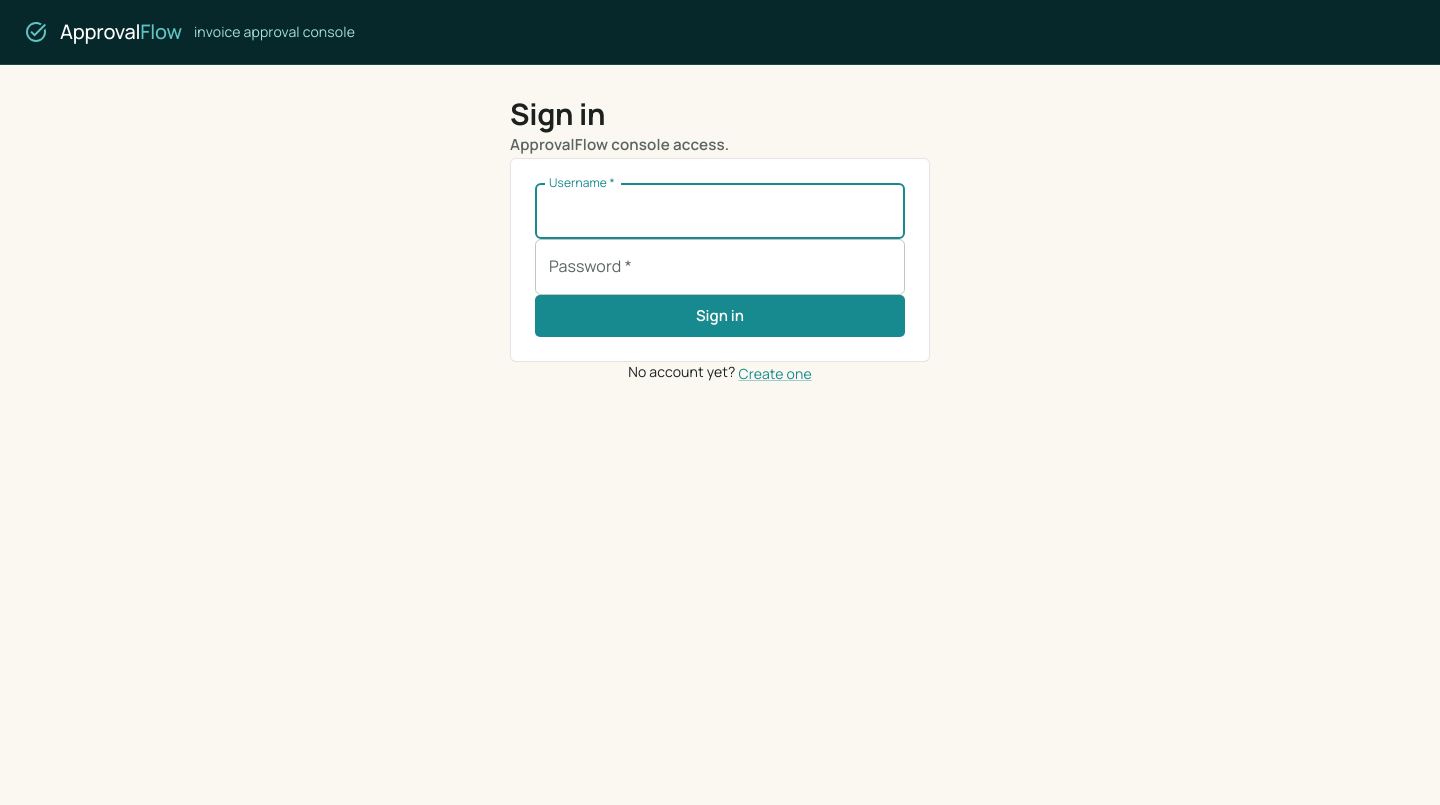
Test: App - unauthenticated › shows the tabbed console after a successful login
Type "alice" into the field labelled "Username *" at (720, 211), box [535,183,905,239]
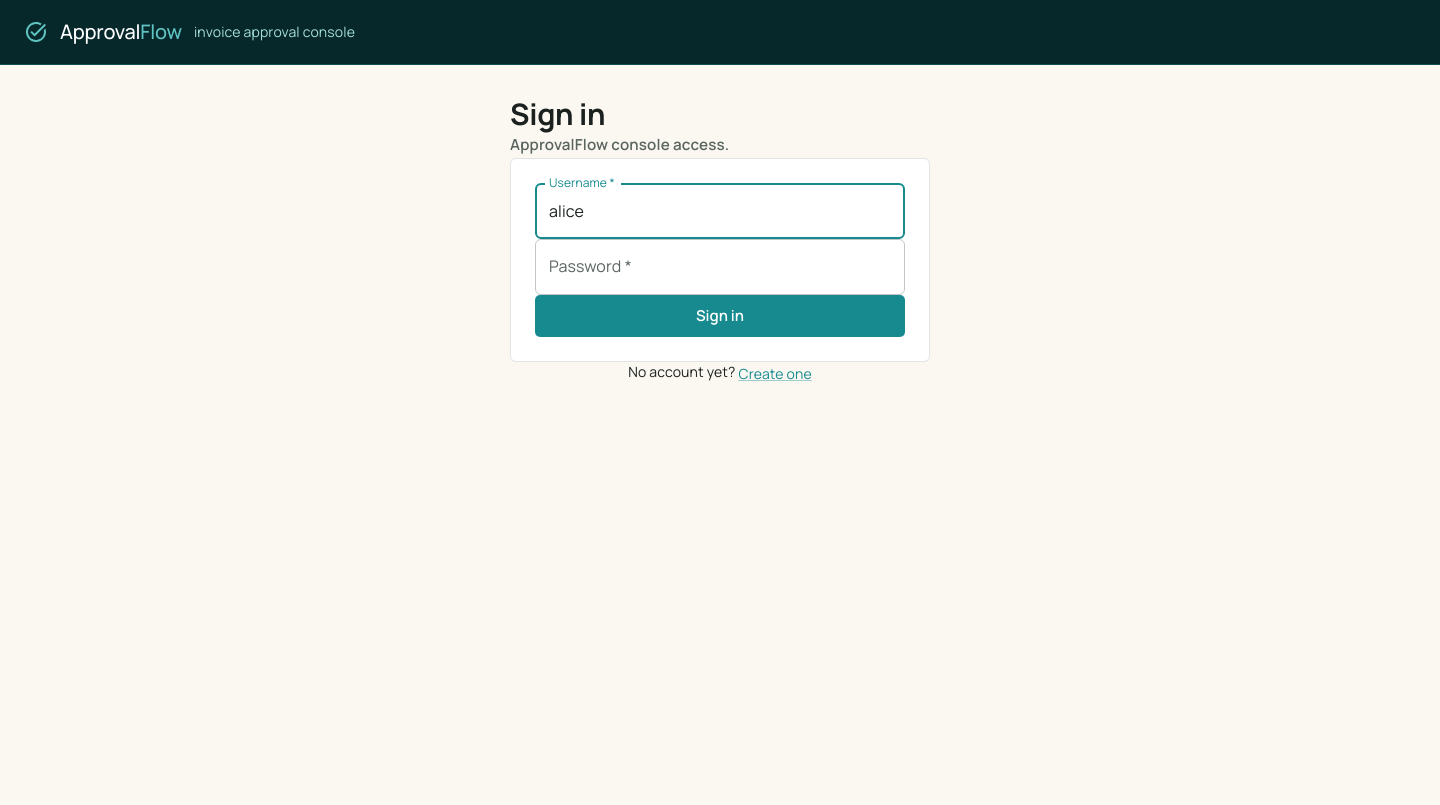
Type "correct-password" into the password field labelled "Password *" at (720, 267), box [535,239,905,295]
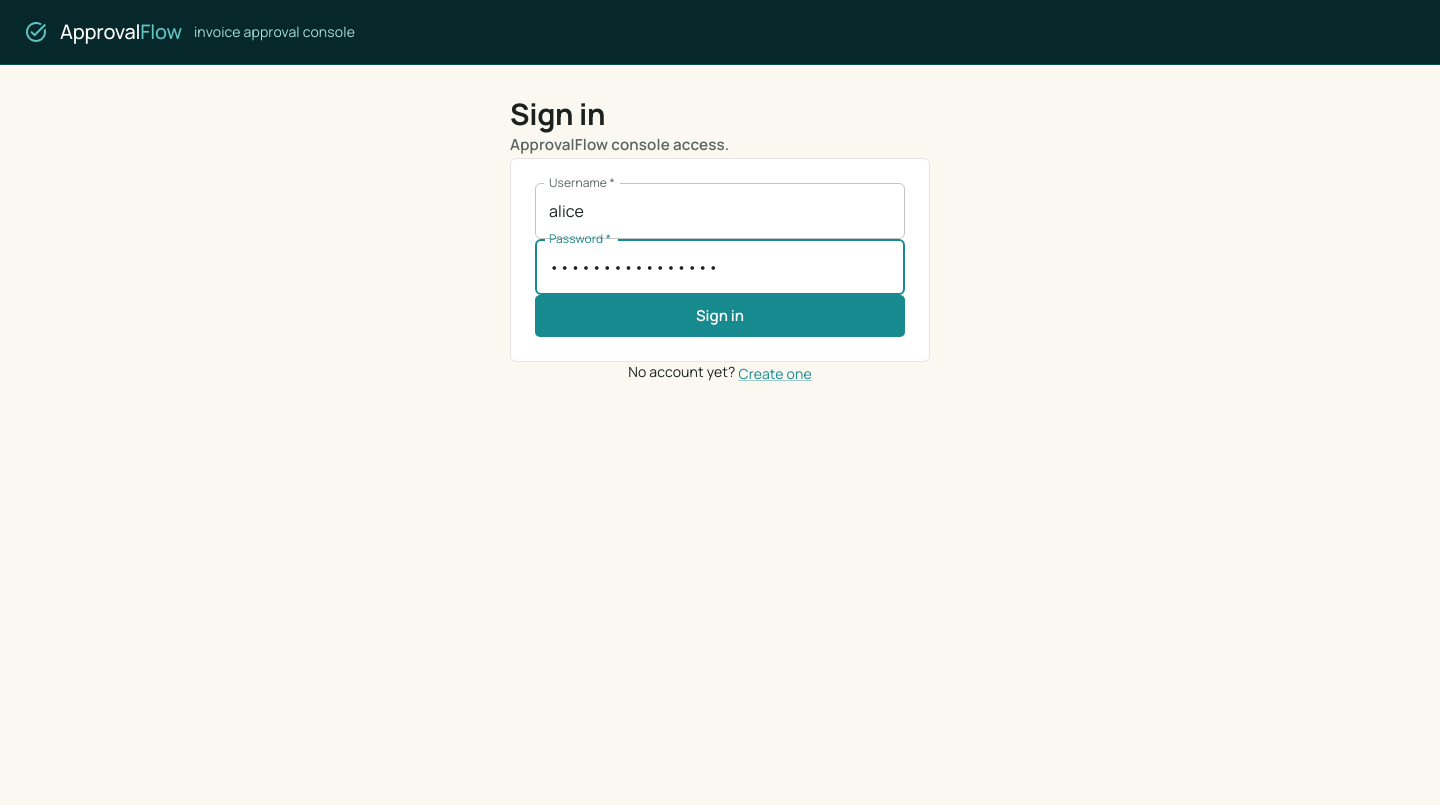
Click the button "Sign in" at (720, 316), box [535,295,905,337]
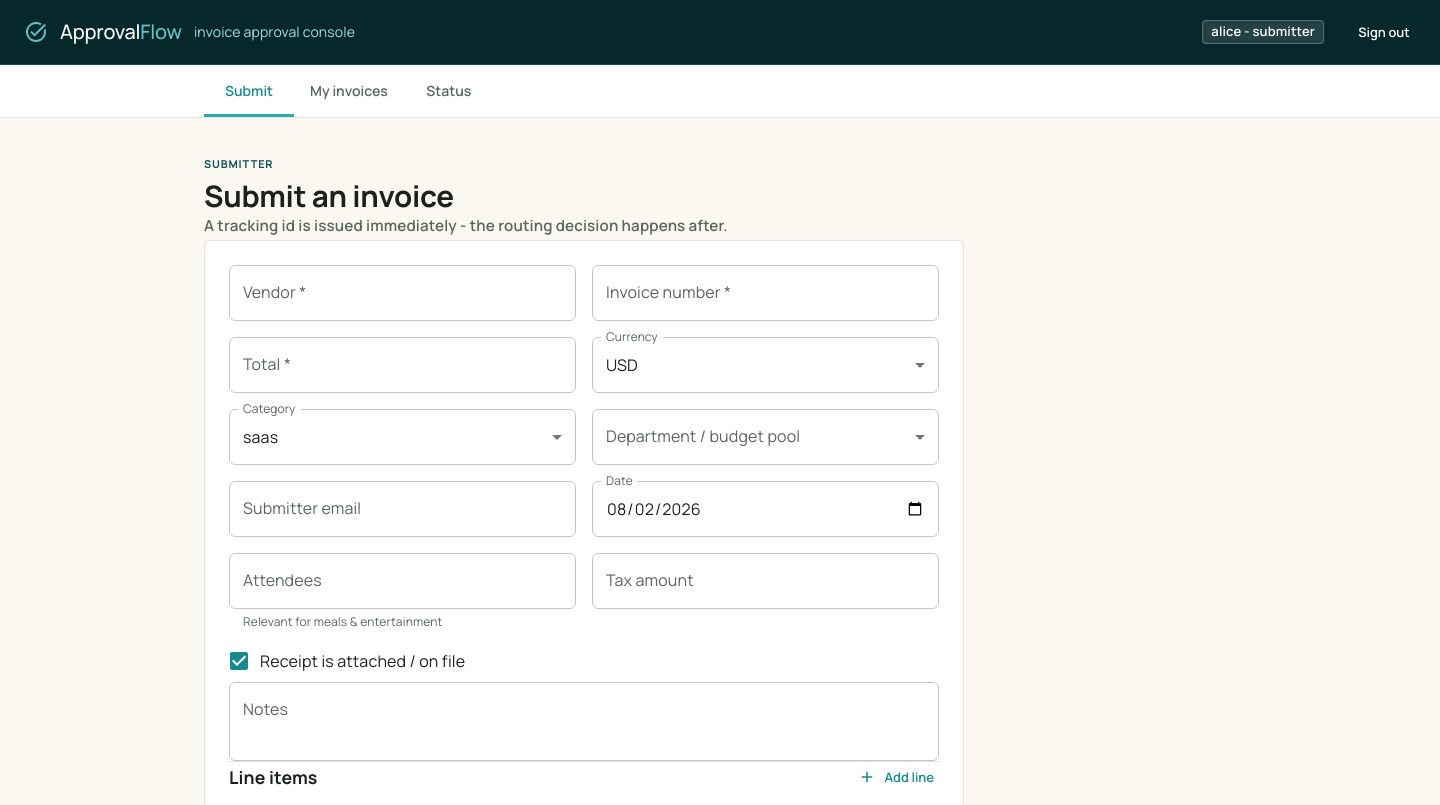
Now the heading "Submit an invoice" is shown, box [204,175,454,216]
Now the text "alice - submitter" is shown, box [1203,22,1323,42]
